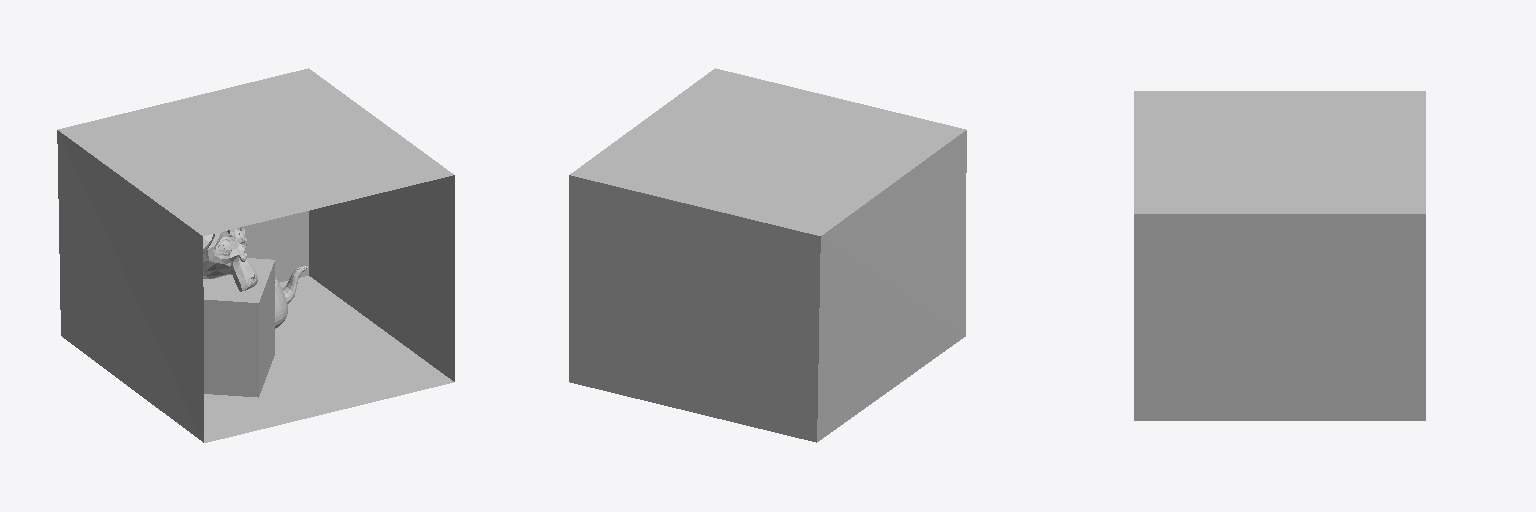
The model's file is cornellbox.obj.
3 views of the same model, side by side, from view 1: azimuth 30°, elevation 25°; view 2: azimuth 150°, elevation 25°; view 3: azimuth 270°, elevation 25° (orthographic).
Visible parts, largest first — view 1: ceiling, leftWall, rightWall, floor, shortBox, backWall, Suzanne, teapot.005; view 2: backWall, ceiling, leftWall; view 3: rightWall, ceiling.
Part boxes in pixels (x1,y1,x2,y2): ceiling: (58,68,453,235); leftWall: (57,130,203,442); rightWall: (309,175,454,381); floor: (204,276,453,442); shortBox: (203,258,274,397); backWall: (244,211,308,282); Suzanne: (203,227,257,291); teapot.005: (275,266,307,328); backWall: (569,175,820,442); ceiling: (570,68,965,235); leftWall: (817,130,966,441); rightWall: (1134,214,1425,420); ceiling: (1134,91,1425,213).
Size of the model in its own units: 1.29 by 1.02 by 1.3.